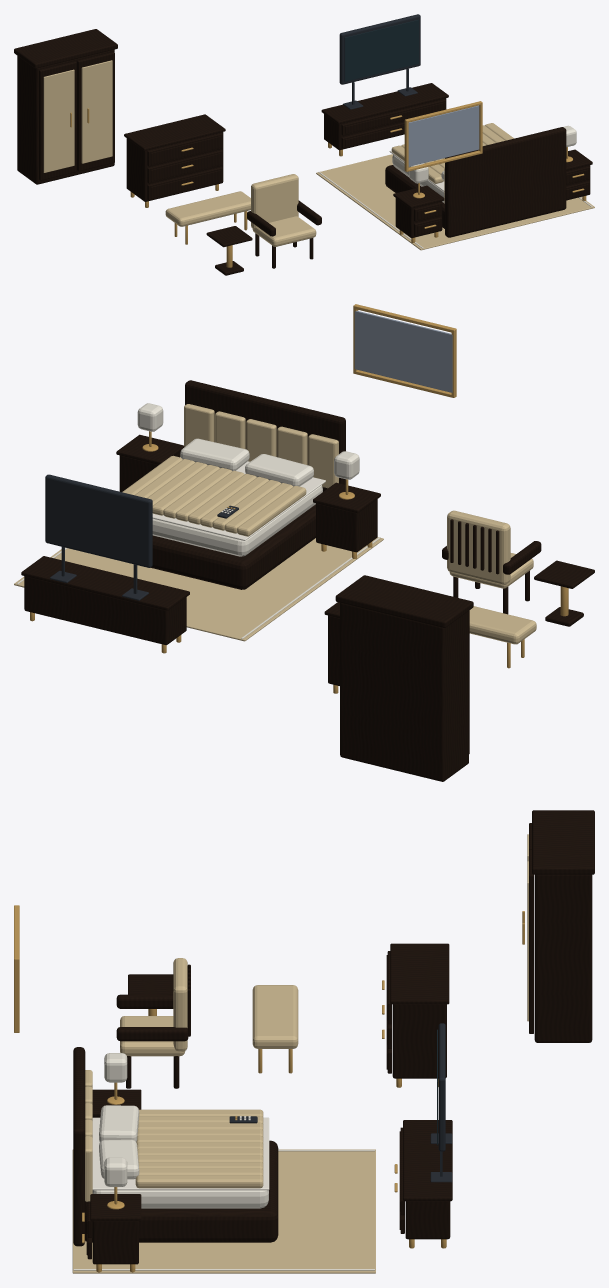
File: room-16.glb
3 renders of one model, top to bottom at view 1: azimuth 30°, elevation 25°; view 2: azimuth 150°, elevation 25°; view 3: azimuth 270°, elevation 25°, orthographic. The views are drawn at different scales.
Parts seen in each view (by area): view 1: BED | headboard frame.005, RUG | bound wool.005, TV | SCREEN.005, ART | ECLIPSE PLACEHOLDER | canvas solid.005, WARDROBE | recessed door panel.010, WARDROBE | recessed door panel.011, WARDROBE | closed carcass.005, WARDROBE | crown.005, TV CONSOLE | overhanging top.005, CHAIR | shaped upholstered back.005, DRESSER | overhanging top.005, LUGGAGE | upholstered bench.005 (+21 smaller); view 2: WARDROBE | closed carcass.005, RUG | bound wool.005, TV | solid chassis.005, ART | ECLIPSE PLACEHOLDER | canvas solid.005, TV CONSOLE | closed carcass.005, BED | upholstered platform.005, BED | headboard frame.005, WARDROBE | crown.005, TV CONSOLE | overhanging top.005, CHAIR | shaped upholstered back.005, BED | sprung mattress.005, BEDSIDE R | closed carcass.005 (+27 smaller); view 3: RUG | bound wool.005, WARDROBE | closed carcass.005, BED | upholstered platform.005, WARDROBE | crown.005, DRESSER | closed carcass.005, DRESSER | overhanging top.005, TV CONSOLE | overhanging top.005, LUGGAGE | upholstered bench.005, BED | sprung mattress.005, BED | headboard frame.005, BEDSIDE L | closed carcass.005, TV CONSOLE | closed carcass.005 (+25 smaller).
Boxes of the visible parts, box(x1,y1,x2,y2) form: BED | headboard frame.005: box(445, 127, 566, 237); RUG | bound wool.005: box(316, 154, 594, 250); TV | SCREEN.005: box(344, 19, 418, 81); ART | ECLIPSE PLACEHOLDER | canvas solid.005: box(408, 105, 479, 166); WARDROBE | recessed door panel.010: box(81, 60, 112, 163); WARDROBE | recessed door panel.011: box(43, 69, 74, 172); WARDROBE | closed carcass.005: box(17, 49, 114, 184); WARDROBE | crown.005: box(14, 29, 117, 68); TV CONSOLE | overhanging top.005: box(321, 83, 448, 124); CHAIR | shaped upholstered back.005: box(251, 174, 298, 229); DRESSER | overhanging top.005: box(124, 114, 225, 150); LUGGAGE | upholstered bench.005: box(165, 191, 250, 226); WARDROBE | closed carcass.005: box(340, 603, 468, 781); RUG | bound wool.005: box(14, 537, 383, 641); TV | solid chassis.005: box(45, 474, 152, 567); ART | ECLIPSE PLACEHOLDER | canvas solid.005: box(354, 310, 452, 392); TV CONSOLE | closed carcass.005: box(24, 576, 186, 645); BED | upholstered platform.005: box(151, 504, 315, 589); BED | headboard frame.005: box(185, 380, 345, 491); WARDROBE | crown.005: box(335, 575, 473, 627); TV CONSOLE | overhanging top.005: box(21, 556, 189, 610); CHAIR | shaped upholstered back.005: box(447, 510, 510, 584); BED | sprung mattress.005: box(152, 485, 322, 556); BEDSIDE R | closed carcass.005: box(316, 499, 377, 552); RUG | bound wool.005: box(72, 1149, 375, 1273); WARDROBE | closed carcass.005: box(534, 874, 592, 1042); BED | upholstered platform.005: box(85, 1140, 278, 1242); WARDROBE | crown.005: box(532, 810, 594, 874); DRESSER | closed carcass.005: box(392, 1004, 446, 1078); DRESSER | overhanging top.005: box(390, 943, 449, 1004); TV CONSOLE | overhanging top.005: box(403, 1120, 452, 1201); LUGGAGE | upholstered bench.005: box(252, 985, 298, 1048); BED | sprung mattress.005: box(92, 1190, 268, 1208); BED | headboard frame.005: box(73, 1047, 85, 1246); BEDSIDE L | closed carcass.005: box(92, 1221, 138, 1264); TV CONSOLE | closed carcass.005: box(405, 1201, 450, 1239).
Size of the model in its own units: 8.48 by 3.07 by 7.28.
8 materials, 1 textured.
